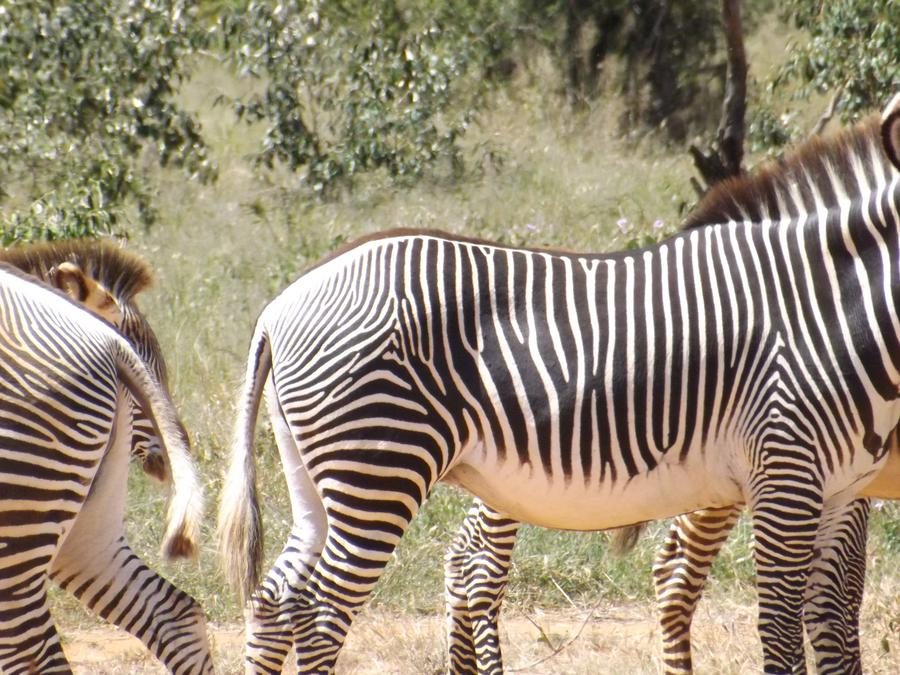zebra_grevys: (255, 215, 826, 504)
